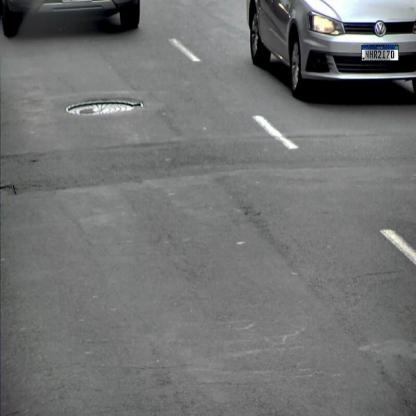PlacaM: (361, 45, 399, 61)
